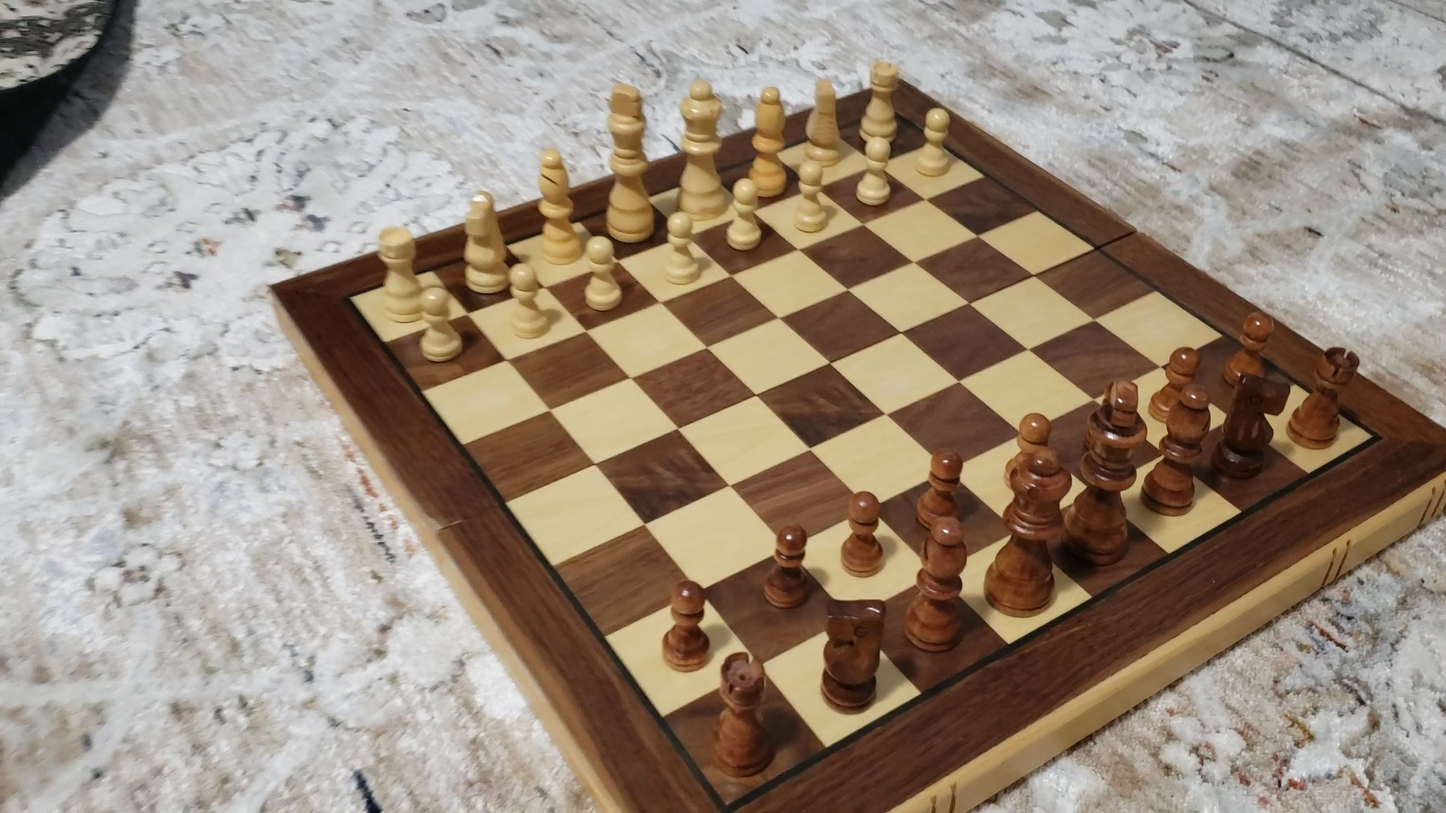black-bishop: (1144, 384, 1215, 516), (907, 517, 969, 654)
black-king: (1064, 377, 1151, 566)
black-knight: (818, 596, 887, 713), (1213, 367, 1283, 479)
black-pawn: (658, 575, 715, 675), (1221, 308, 1279, 395), (1148, 343, 1203, 431), (915, 444, 966, 535), (761, 521, 812, 611), (839, 487, 886, 579), (1003, 409, 1053, 494)
black-queen: (981, 448, 1074, 618)
black-rook: (1287, 344, 1363, 451), (711, 651, 774, 780)
white-bishop: (534, 144, 586, 268), (749, 82, 789, 200)
white-king: (602, 73, 655, 247)
white-knight: (460, 189, 510, 296), (804, 69, 844, 168)
white-pawn: (411, 282, 469, 368), (501, 260, 556, 345), (656, 207, 708, 291), (577, 234, 628, 317), (786, 156, 836, 238), (719, 175, 769, 256), (910, 102, 959, 183), (850, 130, 898, 212)
white-queen: (674, 75, 727, 220)
white-rook: (371, 220, 428, 325), (860, 55, 902, 152)
